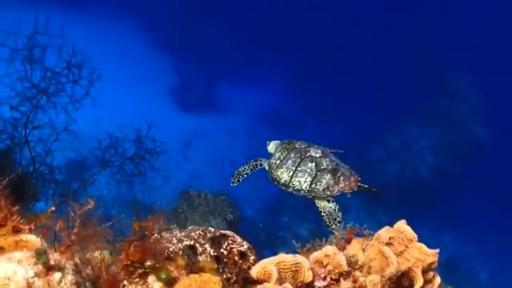Fish: (231, 140, 378, 232)
